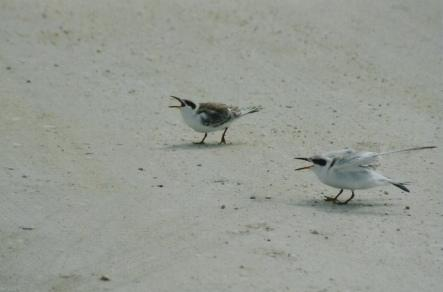bird: (293, 142, 438, 207), (160, 93, 269, 150)
